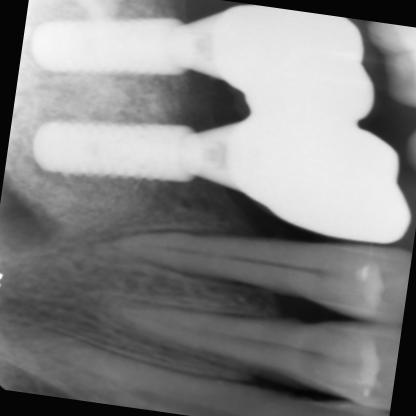ITI: (26, 98, 204, 202), (20, 0, 196, 98)
